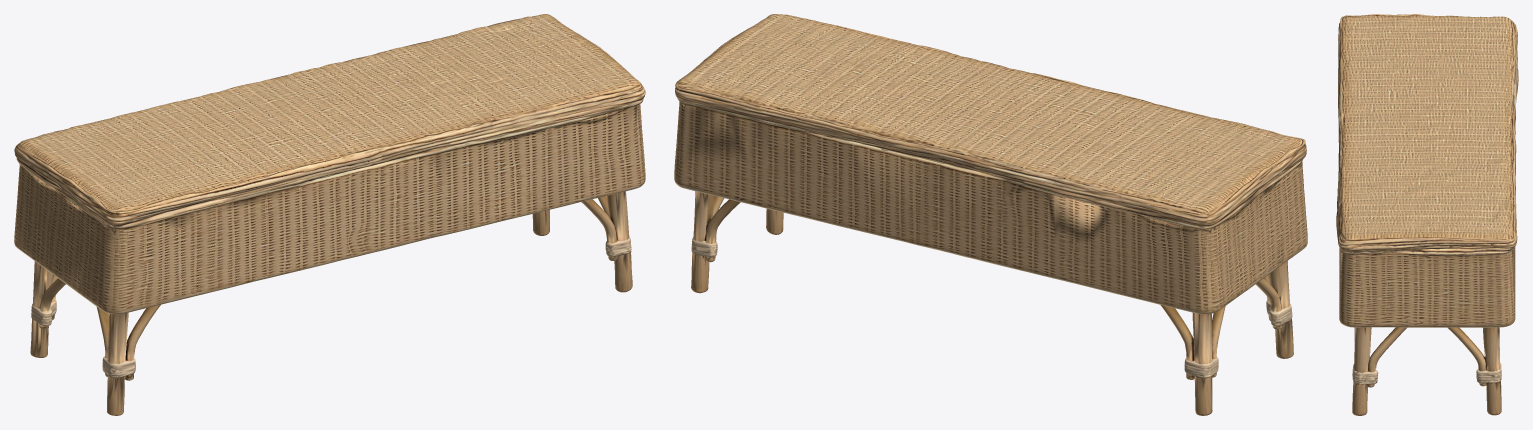
Rendered from tolkning-bench.glb.
3 renders of one model, left to right at view 1: azimuth 30°, elevation 25°; view 2: azimuth 150°, elevation 25°; view 3: azimuth 270°, elevation 25°, orthographic. The views are drawn at different scales.
Visible parts, largest first — view 1: tripo_node_8053909d-b5d3-4e21-8e15-97134b064f5a; view 2: tripo_node_8053909d-b5d3-4e21-8e15-97134b064f5a; view 3: tripo_node_8053909d-b5d3-4e21-8e15-97134b064f5a.
Boxes of the visible parts, box(x1,y1,x2,y2) form: tripo_node_8053909d-b5d3-4e21-8e15-97134b064f5a: box(14, 14, 645, 415); tripo_node_8053909d-b5d3-4e21-8e15-97134b064f5a: box(674, 14, 1307, 415); tripo_node_8053909d-b5d3-4e21-8e15-97134b064f5a: box(1336, 14, 1518, 415).
Bounding box in the file's own units: 1.2 × 0.4526 × 0.4067.
Materials: 1 (1 with a texture image).
